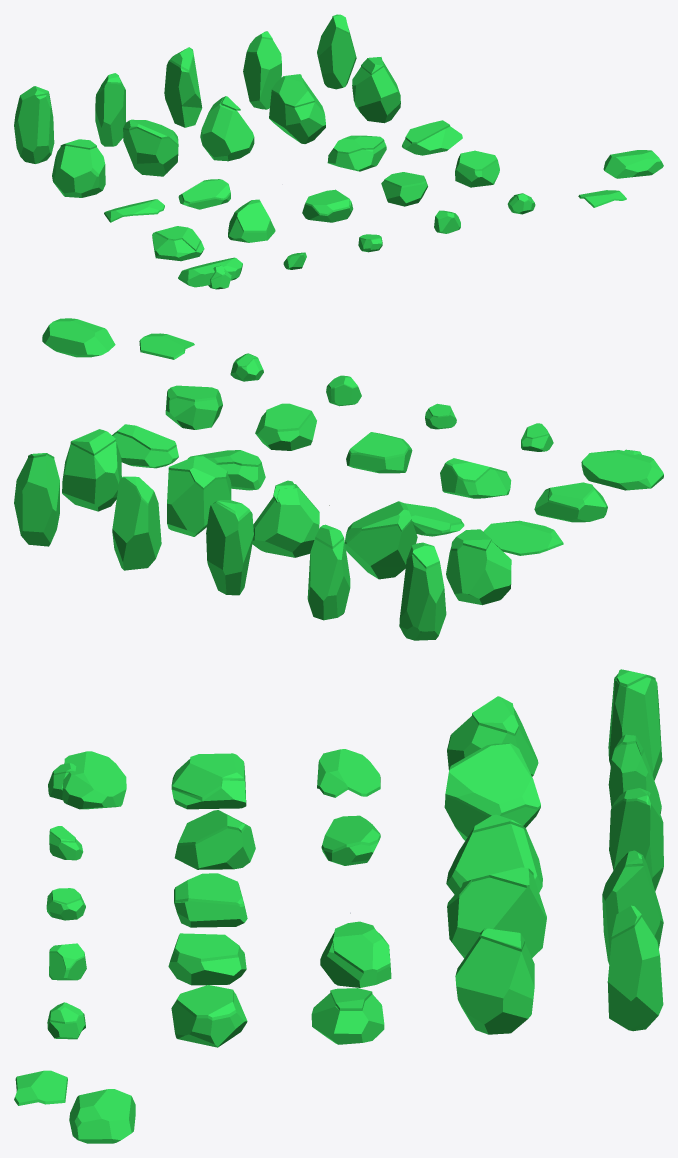
Rendered from Scenes_Dessert factory.FBX.
3 renders of one model, top to bottom at view 1: azimuth 30°, elevation 25°; view 2: azimuth 150°, elevation 25°; view 3: azimuth 270°, elevation 25°, orthographic. The views are drawn at different scales.
Parts seen in each view (by area): view 1: Large_1, Tall_1, Large_3, Large_5, Tall_4, Tall_5, Tall_3, Large_2, Large_4, Tall_2, Medium_3, Medium_1 (+19 smaller); view 2: Large_3, Tall_5, Tall_3, Tall_4, Large_1, Tall_1, Large_5, Tall_2, Large_4, Large_2, Medium_1, Medium_3 (+24 smaller); view 3: Large_5, Large_4, Large_2_Snow_Cover, Tall_5, Large_3, Tall_1, Tall_3, Tall_4, Medium_3, Medium_1, Medium_5, Medium_1_Snow_Cover (+23 smaller).
Boxes of the visible parts, x1=… form: Large_1: x1=52, y1=145, x2=105, y2=197; Tall_1: x1=14, y1=93, x2=54, y2=163; Large_3: x1=200, y1=98, x2=254, y2=161; Large_5: x1=352, y1=61, x2=400, y2=123; Tall_4: x1=243, y1=38, x2=281, y2=109; Tall_5: x1=317, y1=18, x2=356, y2=89; Tall_3: x1=164, y1=57, x2=202, y2=127; Large_2: x1=123, y1=128, x2=178, y2=176; Large_4: x1=269, y1=78, x2=325, y2=143; Tall_2: x1=95, y1=77, x2=125, y2=146; Medium_3: x1=603, y1=150, x2=663, y2=178; Medium_1: x1=178, y1=257, x2=242, y2=287; Large_3: x1=252, y1=484, x2=319, y2=557; Tall_5: x1=14, y1=455, x2=59, y2=546; Tall_3: x1=206, y1=502, x2=253, y2=595; Tall_4: x1=112, y1=479, x2=161, y2=570; Large_1: x1=446, y1=541, x2=511, y2=605; Tall_1: x1=399, y1=547, x2=446, y2=640; Large_5: x1=62, y1=441, x2=121, y2=511; Tall_2: x1=307, y1=539, x2=350, y2=620; Large_4: x1=167, y1=470, x2=231, y2=536; Large_2: x1=345, y1=521, x2=417, y2=579; Medium_1: x1=581, y1=450, x2=663, y2=490; Medium_3: x1=42, y1=318, x2=115, y2=357; Large_5: x1=455, y1=936, x2=534, y2=1034; Large_4: x1=447, y1=871, x2=546, y2=958; Large_2_Snow_Cover: x1=445, y1=743, x2=540, y2=816; Tall_5: x1=607, y1=917, x2=663, y2=1031; Large_3: x1=446, y1=823, x2=542, y2=894; Tall_1: x1=608, y1=674, x2=662, y2=780; Tall_3: x1=609, y1=793, x2=663, y2=891; Tall_4: x1=602, y1=854, x2=663, y2=964; Medium_3: x1=69, y1=1089, x2=135, y2=1143; Medium_1: x1=62, y1=751, x2=126, y2=809; Medium_5: x1=311, y1=993, x2=384, y2=1044; Medium_1_Snow_Cover: x1=317, y1=749, x2=380, y2=797.
Size of the model in its own units: 192856 by 27444 by 137296.
